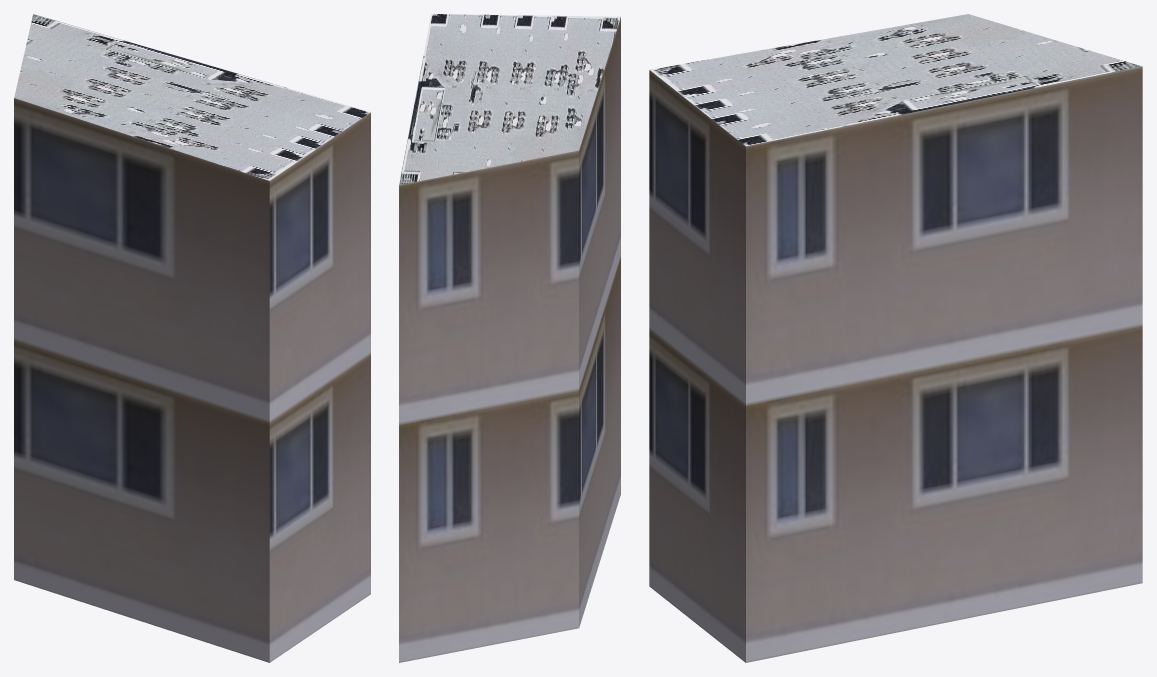
Rendered from ResTex__3610.fbx.
3 views of the same model, side by side, from view 1: azimuth 30°, elevation 25°; view 2: azimuth 150°, elevation 25°; view 3: azimuth 270°, elevation 25° (orthographic). The views are drawn at different scales.
Visible parts, largest first — view 1: CityEngineMaterial_21_m, CityEngineMaterial_8_m; view 2: CityEngineMaterial_21_m, CityEngineMaterial_8_m; view 3: CityEngineMaterial_21_m, CityEngineMaterial_8_m.
Part boxes in pixels (left/top/right/bottom): CityEngineMaterial_21_m: left=14, top=98, right=370, bottom=662; CityEngineMaterial_8_m: left=14, top=14, right=370, bottom=180; CityEngineMaterial_21_m: left=399, top=17, right=620, bottom=662; CityEngineMaterial_8_m: left=399, top=14, right=620, bottom=184; CityEngineMaterial_21_m: left=649, top=66, right=1142, bottom=662; CityEngineMaterial_8_m: left=649, top=14, right=1142, bottom=145.
Size of the model in its own units: 3.29 by 6 by 5.19.
Materials: 2 (2 with a texture image).
